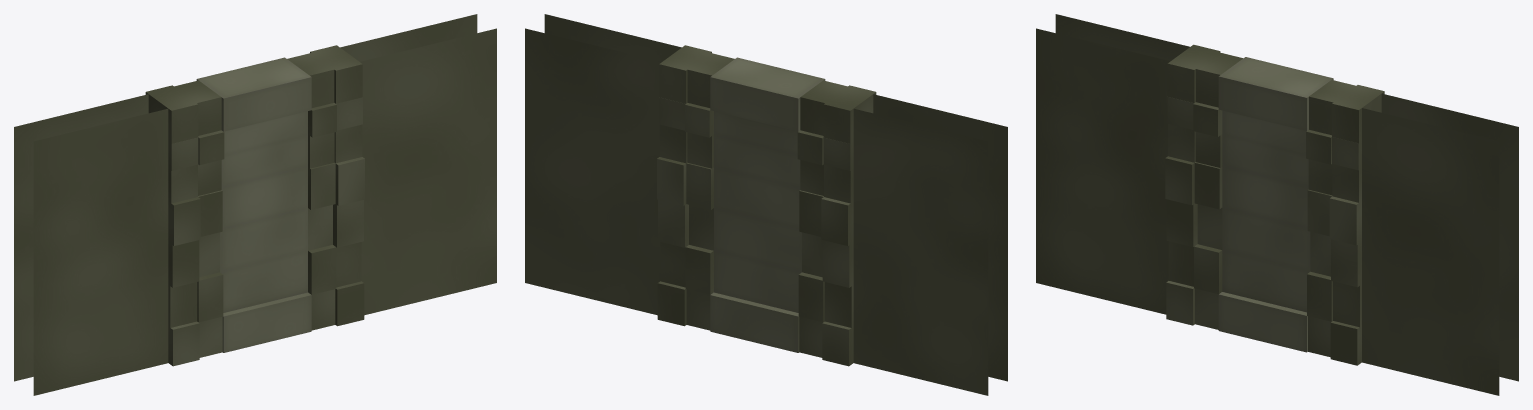
Rendered from Unity_Door2.fbx.
The picture shows the model from 3 angles, left to right: view 1: azimuth 30°, elevation 25°; view 2: azimuth 150°, elevation 25°; view 3: azimuth 330°, elevation 25°; orthographic projection.
Visible parts, largest first — view 1: pCube2, pCube4; view 2: pCube2, pCube4; view 3: pCube2, pCube4.
Part boxes in pixels (<box>): pCube2: <box>14,14,496,395</box>; pCube4: <box>145,45,364,366</box>; pCube2: <box>525,14,1007,395</box>; pCube4: <box>657,45,876,366</box>; pCube2: <box>1036,14,1518,395</box>; pCube4: <box>1165,44,1384,365</box>.
Bounding box in the file's own units: 17.1 × 8.98 × 1.96.
2 materials, 2 textured.
